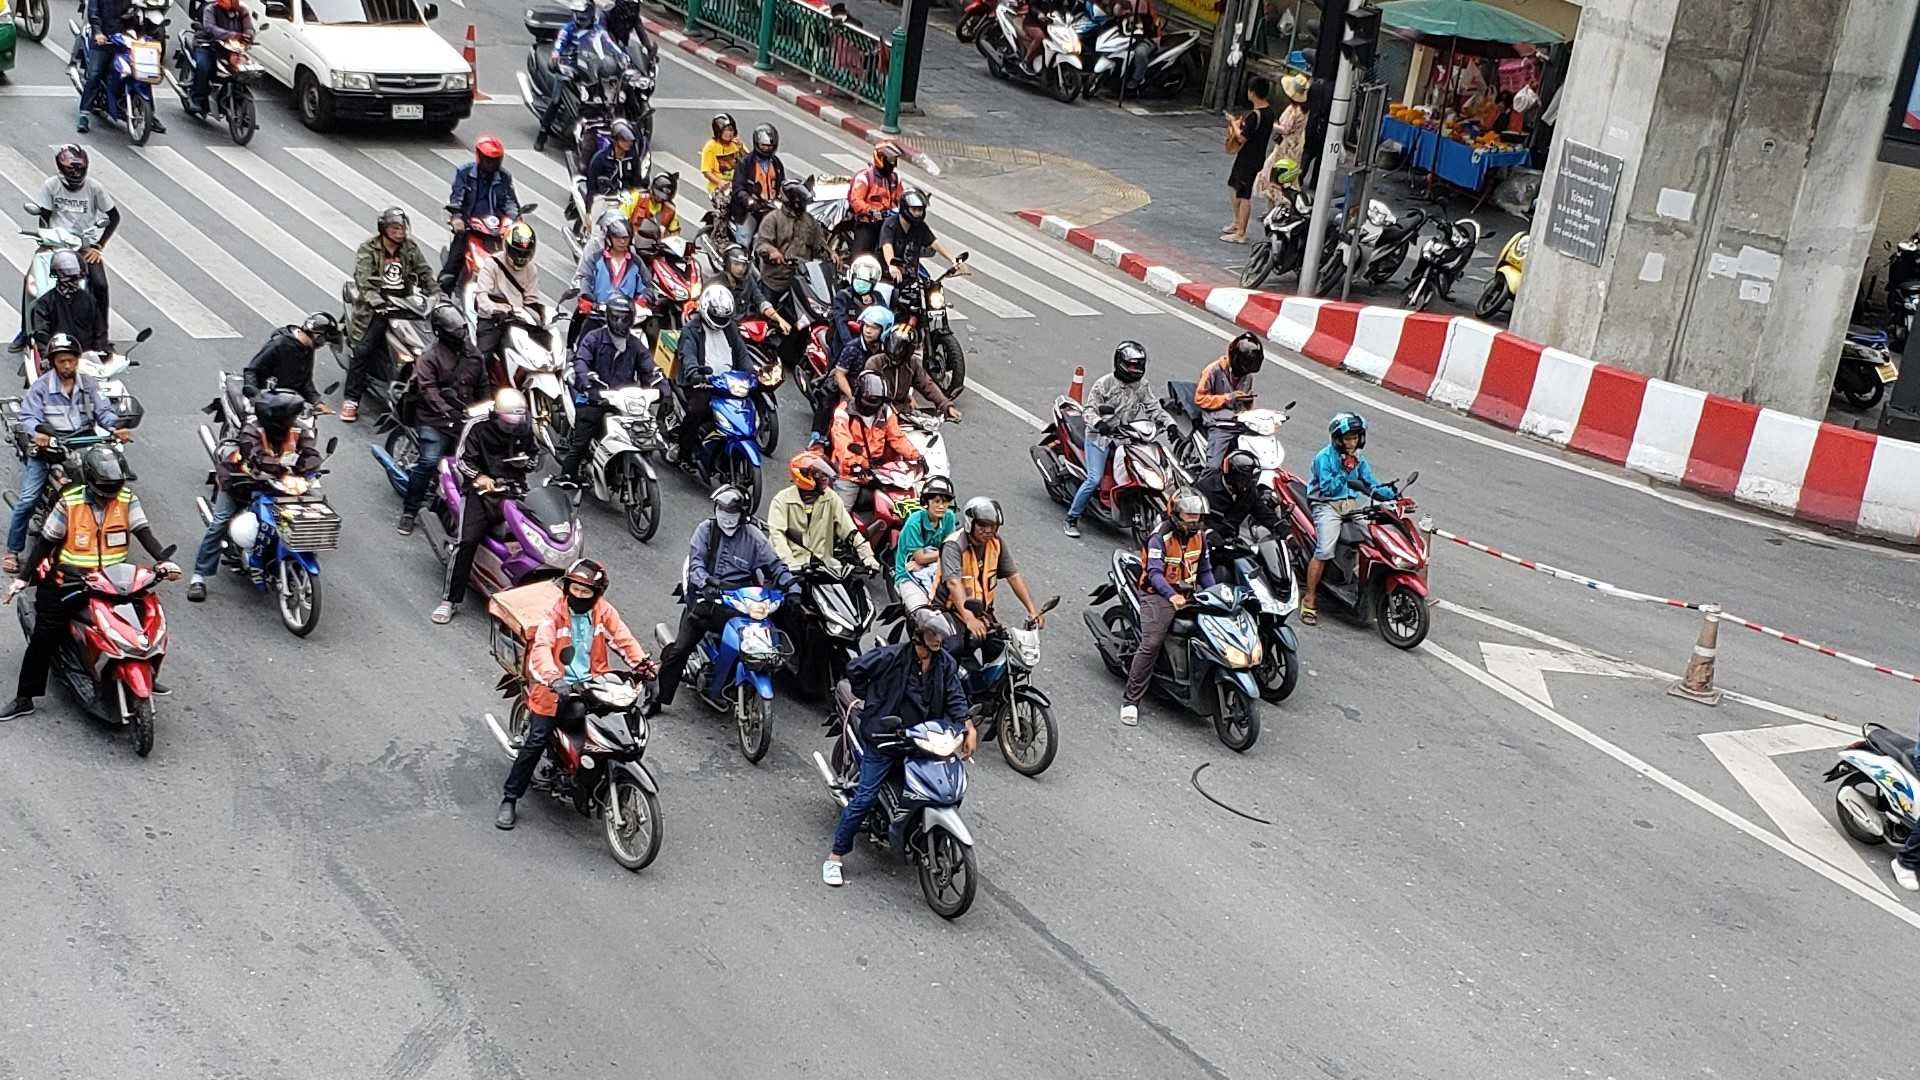MotorCycle: (65, 562, 178, 769), (578, 665, 669, 884), (891, 725, 990, 926), (249, 463, 344, 644), (715, 584, 802, 771), (1354, 480, 1437, 661), (1179, 583, 1265, 757), (595, 380, 674, 551)
